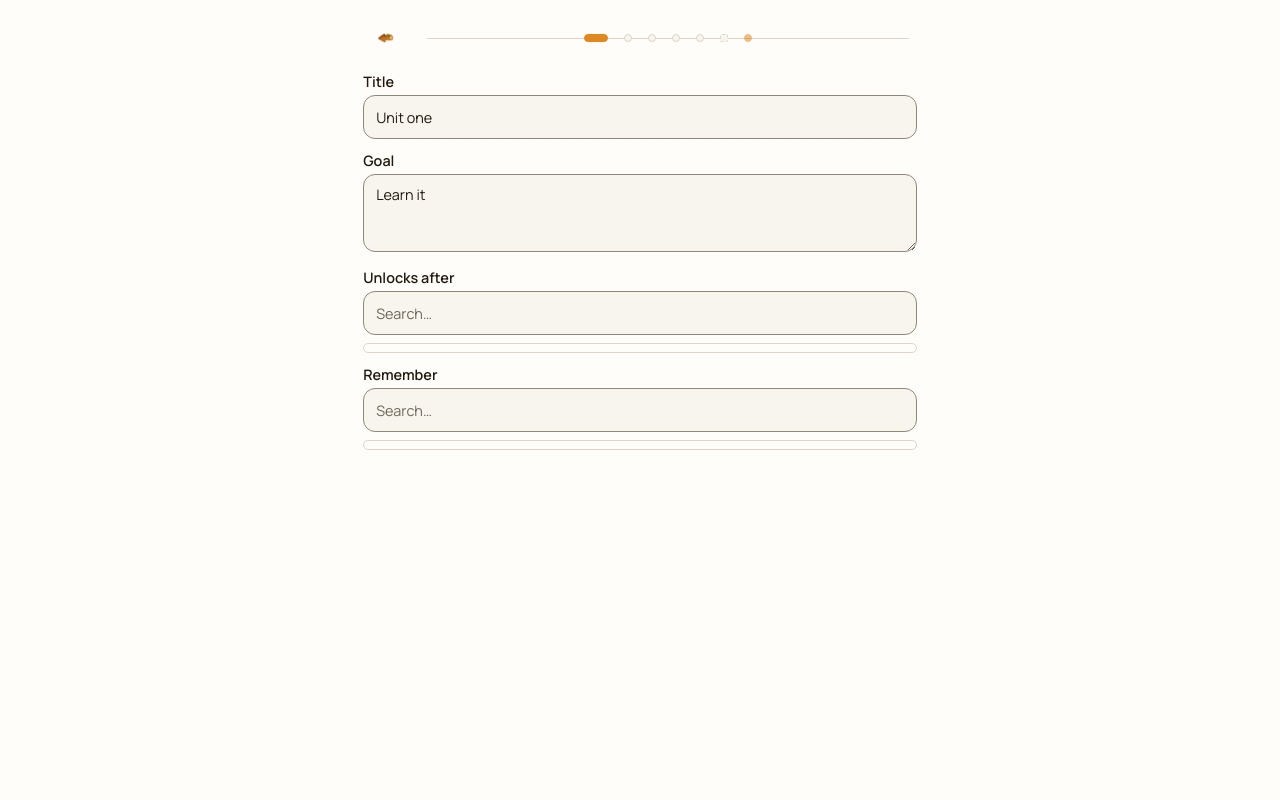
UnitScreen in edit mode › moves Source and the asset pickers behind ⚙, off the row itself
Click the button named "Page 4 of 6" at {"x": 676, "y": 38}, box [672,34,680,42]
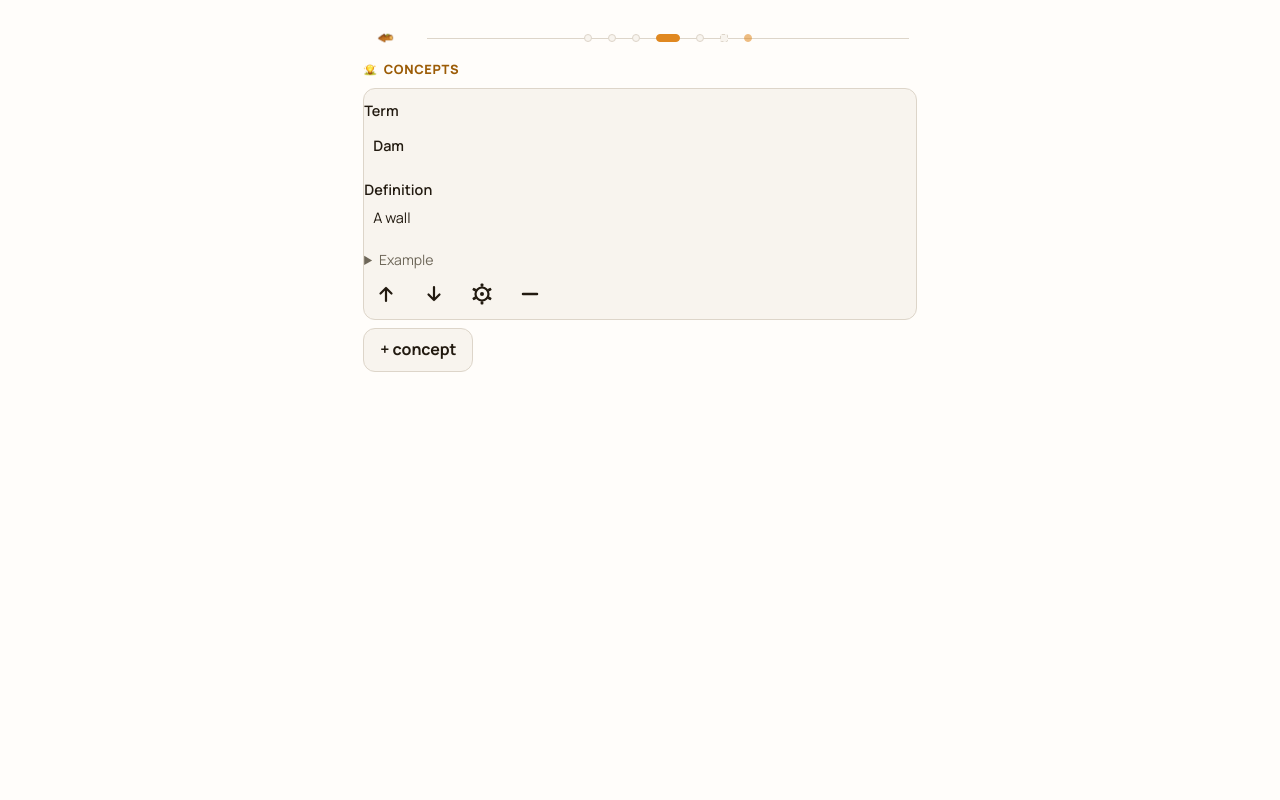
Expected: the field labelled "Source" is not shown
Click the button named "Concept settings" at {"x": 482, "y": 297}, box [460,275,504,319]
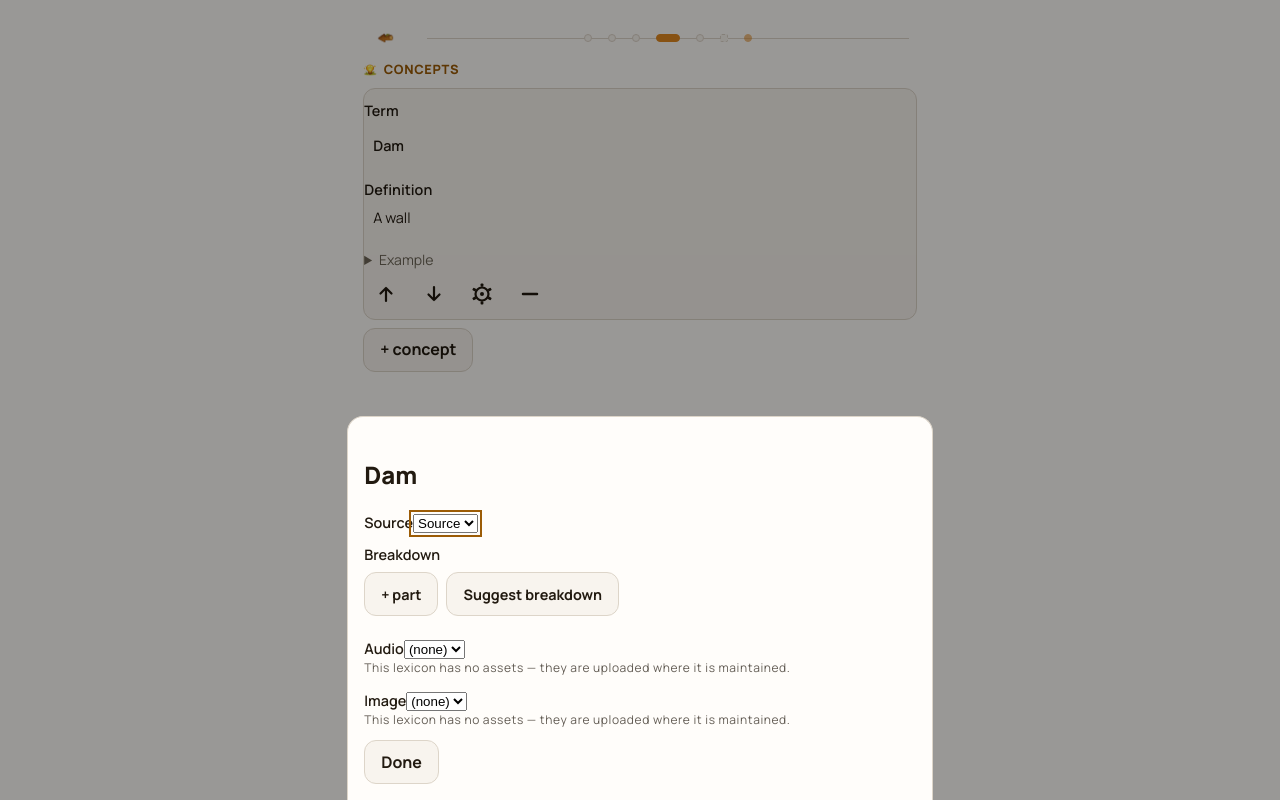
Now the dropdown labelled "Source" is shown, box [413,514,478,533]
